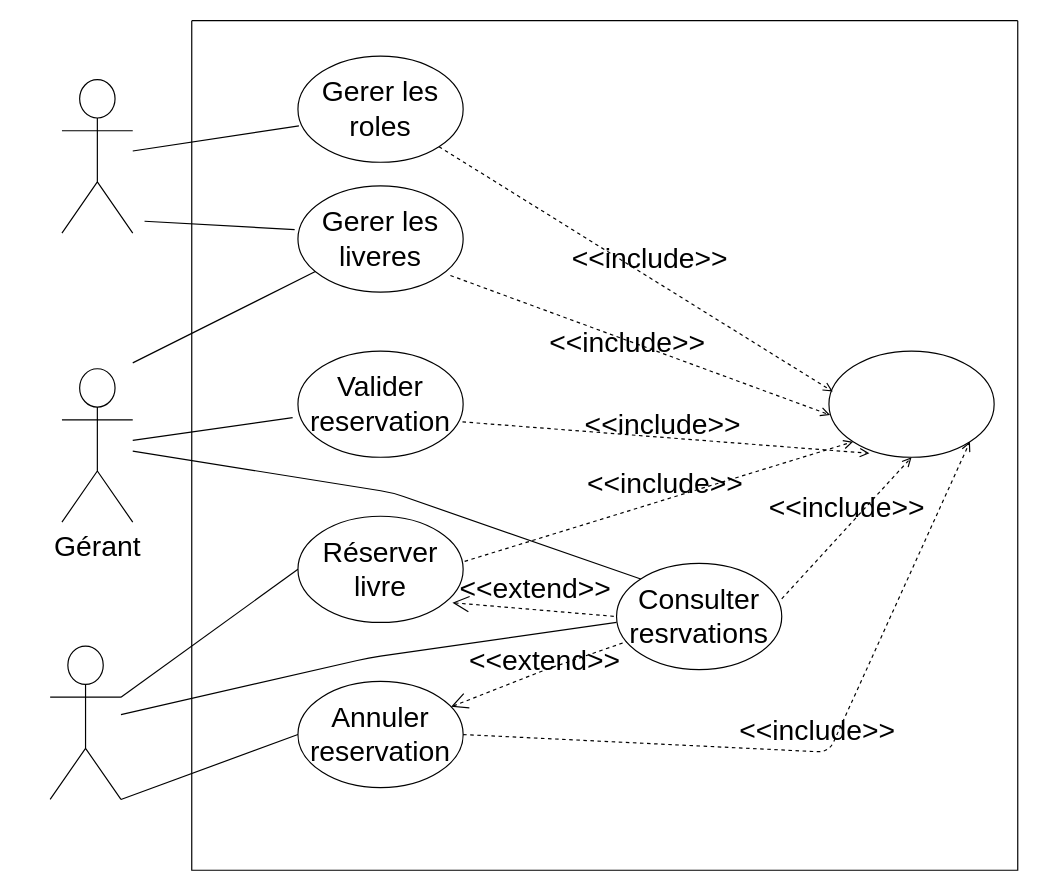
This 1038x891 diagram has some shape labels left out. Here are the shapes that lost their labels. From the top down, the centre of each, then its label:
At point (97, 155): "Admin".
At point (911, 403): "Authentifier".
At point (85, 722): "Apprenant".
